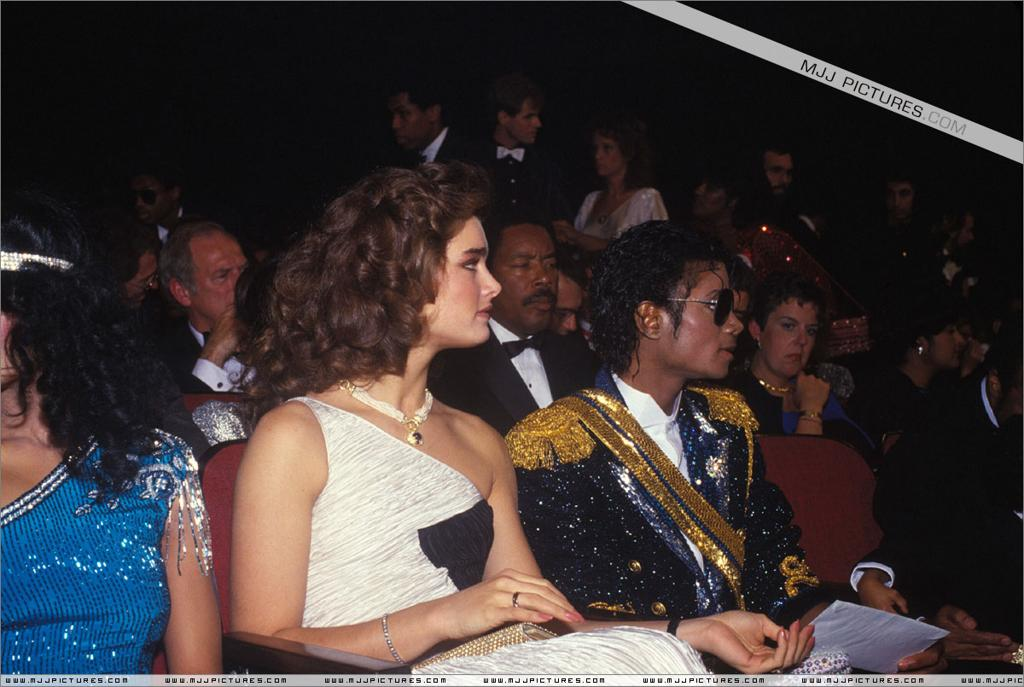face: (664, 266, 743, 377), (437, 219, 502, 345), (488, 236, 558, 331), (683, 291, 749, 382), (190, 236, 250, 320), (762, 304, 815, 376), (544, 289, 581, 341), (391, 97, 427, 145), (935, 320, 965, 369), (510, 98, 542, 143), (764, 150, 793, 195), (592, 131, 616, 175), (885, 182, 912, 219), (694, 177, 717, 214)
